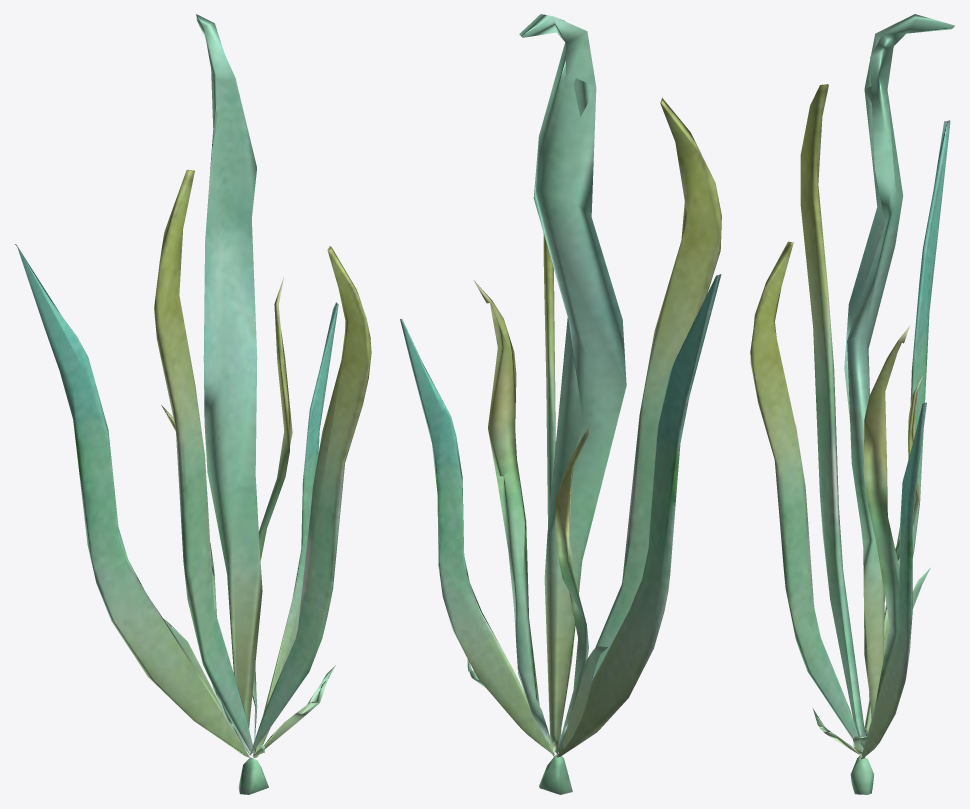
File: fanweed.glb
3 views of the same model, side by side, from view 1: azimuth 30°, elevation 25°; view 2: azimuth 150°, elevation 25°; view 3: azimuth 270°, elevation 25° (orthographic). The views are drawn at different scales.
Visible parts, largest first — view 1: fanweed; view 2: fanweed; view 3: fanweed.
Boxes of the visible parts, x1=… form: fanweed: x1=15, y1=14, x2=371, y2=794; fanweed: x1=400, y1=14, x2=721, y2=794; fanweed: x1=750, y1=14, x2=954, y2=794.
Size of the model in its own units: 0.5667 by 1.31 by 0.3181.
Materials: 1 (1 with a texture image).
